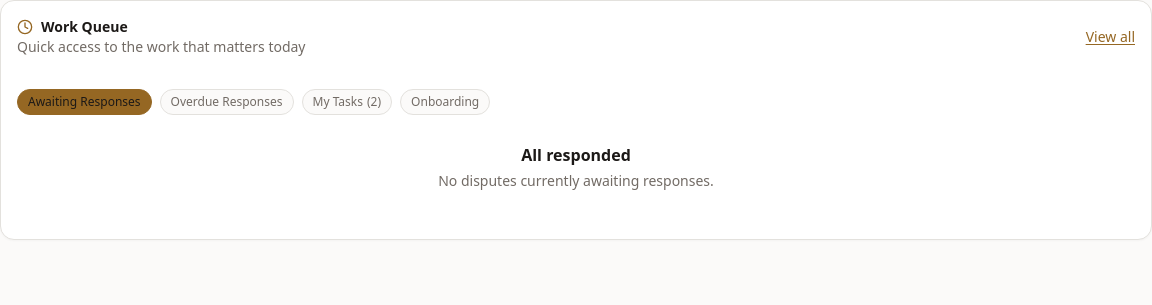
WorkQueue › Task Marking › should mark task as done when clicking checkmark button
Click the button "My Tasks(2)" at (347, 102), box [302, 89, 392, 115]
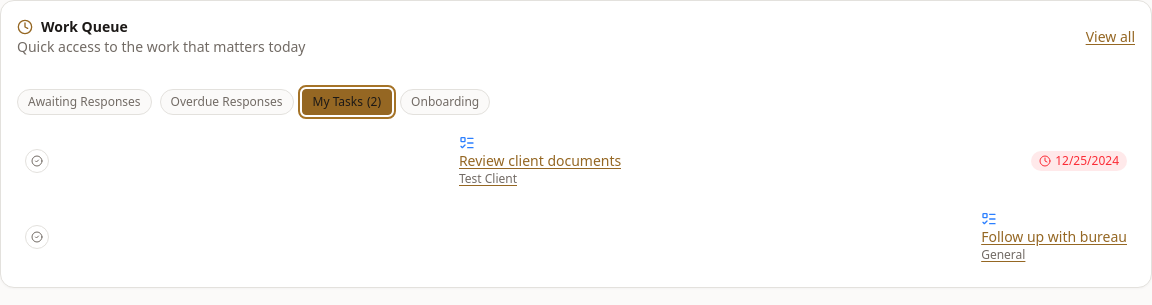
Expected: the text "Review client documents" is shown, [459, 151, 621, 171]
Note: Find and click the first checkmark button
Click the button named "Mark task done" in the row of "Review client documents" at (37, 161), box [25, 149, 49, 173]
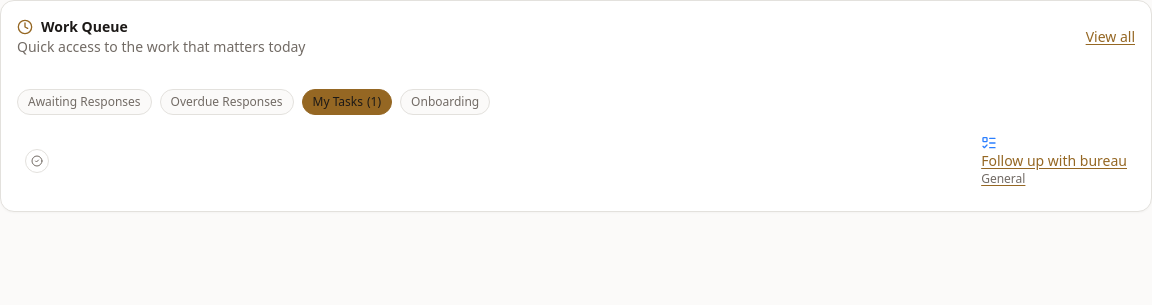
Expected: the link "Review client documents" is gone
